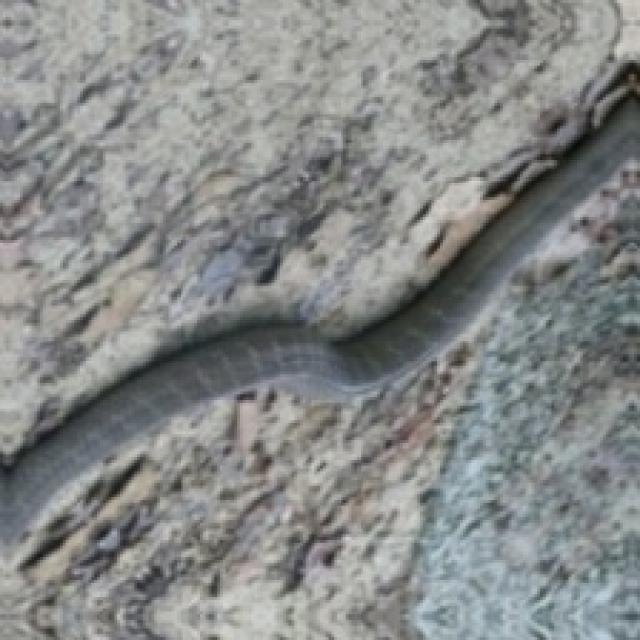king cobra: (0, 0, 637, 460), (0, 0, 617, 460), (3, 346, 469, 637)
